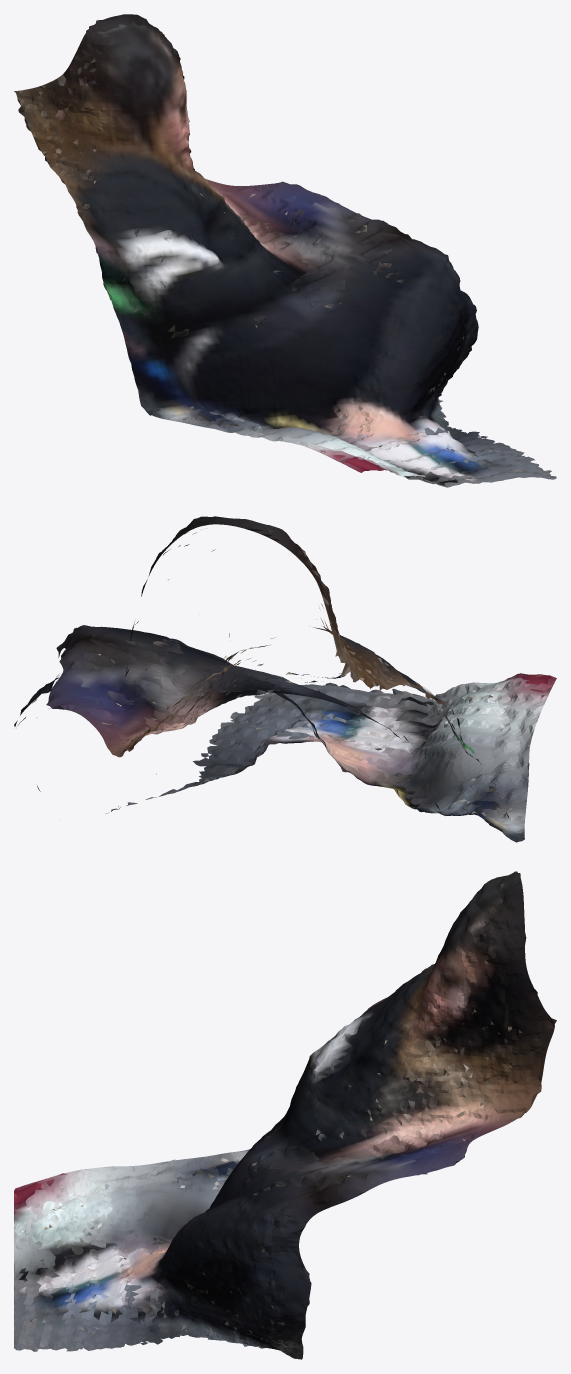
3 renders of one model, top to bottom at view 1: azimuth 30°, elevation 25°; view 2: azimuth 150°, elevation 25°; view 3: azimuth 270°, elevation 25°, orthographic. The views are drawn at different scales.
Bounding box in the file's own units: 0.6737 × 0.6421 × 0.8747.
1 material, 1 textured.
